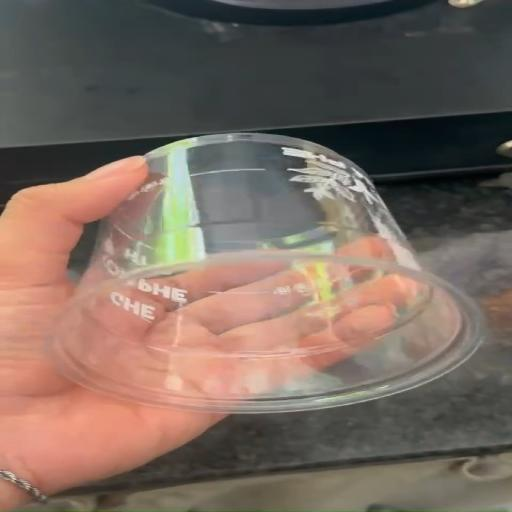ly_nhua: (48, 134, 482, 412)
